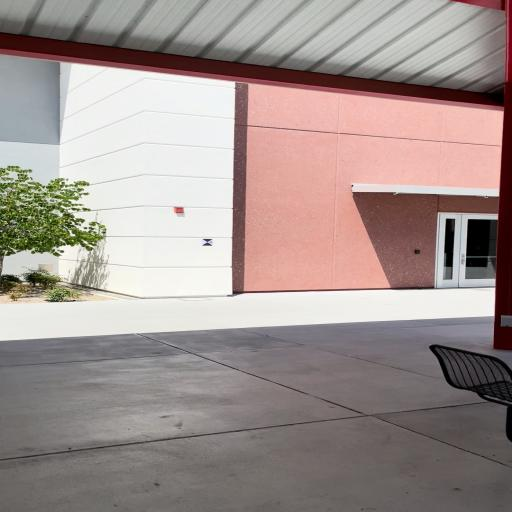target6: (202, 238, 213, 246)
